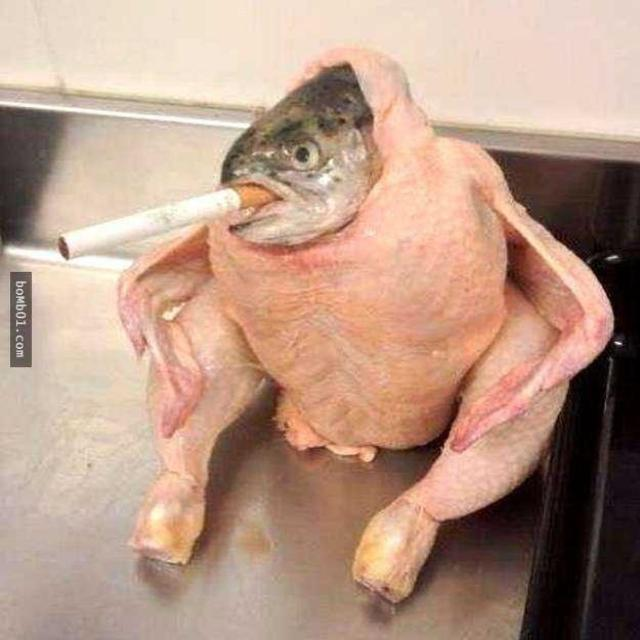Smooking: (49, 168, 278, 298)
